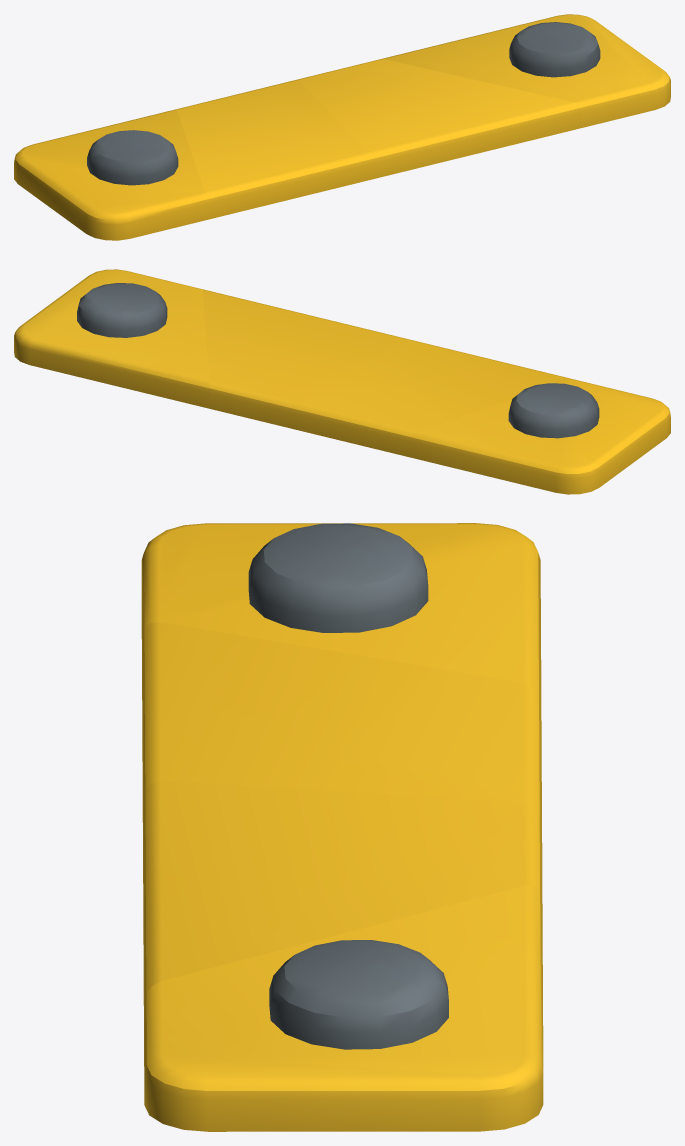
File: Wooden plank.fbx
3 renders of one model, top to bottom at view 1: azimuth 30°, elevation 25°; view 2: azimuth 150°, elevation 25°; view 3: azimuth 270°, elevation 25°, orthographic. The views are drawn at different scales.
Parts seen in each view (by area): view 1: Cube.022, Cube.021, Cube.020, Cube.023; view 2: Cube.020, Cube.023, Cube.021, Cube.022; view 3: Cube.023, Cube.022, Cube.021, Cube.020.
Part boxes in pixels (x1,y1,x2,y2): Cube.022: [297, 59, 581, 179]; Cube.021: [176, 79, 370, 219]; Cube.020: [14, 109, 206, 240]; Cube.023: [380, 14, 670, 127]; Cube.020: [410, 379, 670, 494]; Cube.023: [14, 269, 209, 408]; Cube.021: [290, 340, 574, 457]; Cube.022: [202, 289, 410, 428]; Cube.023: [144, 885, 543, 1131]; Cube.022: [143, 780, 542, 1005]; Cube.021: [142, 622, 541, 822]; Cube.020: [141, 523, 541, 700].
Size of the model in its own units: 26.23 by 1.98 by 7.86.
